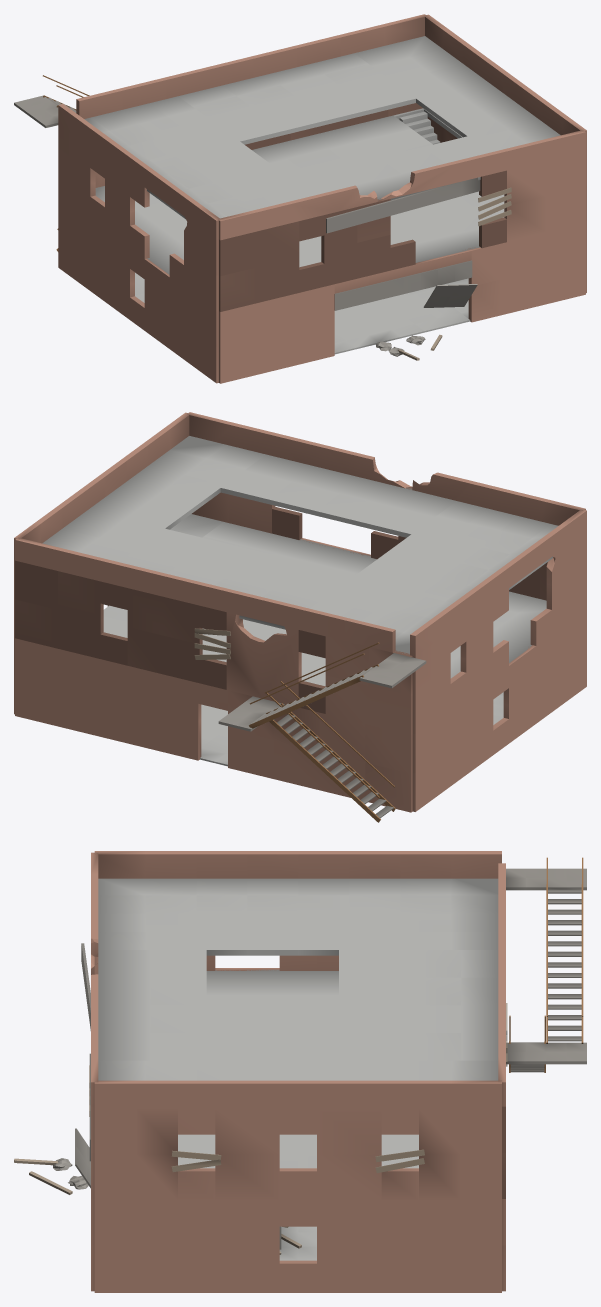
The model's file is loja_r2.glb.
3 views of the same model, one above another, from view 1: azimuth 30°, elevation 25°; view 2: azimuth 150°, elevation 25°; view 3: azimuth 270°, elevation 25° (orthographic). The views are drawn at different scales.
Visible parts, largest first — view 1: longe, ext, dentro, detalhe; view 2: ext, longe, dentro, detalhe; view 3: longe, ext, dentro, detalhe.
Boxes of the visible parts, x1,y1,x2,y2 form: longe: (43,14,586,310); ext: (58,103,586,383); dentro: (95,108,504,354); detalhe: (14,95,477,360); ext: (14,487,586,812); longe: (14,412,586,822); dentro: (103,514,546,766); detalhe: (218,653,426,731); longe: (81,851,583,1161); ext: (89,955,507,1292); dentro: (178,969,418,1260); detalhe: (14,868,586,1254).
Size of what is drawn, in the model's own units: 16.76 by 7.81 by 16.88.
